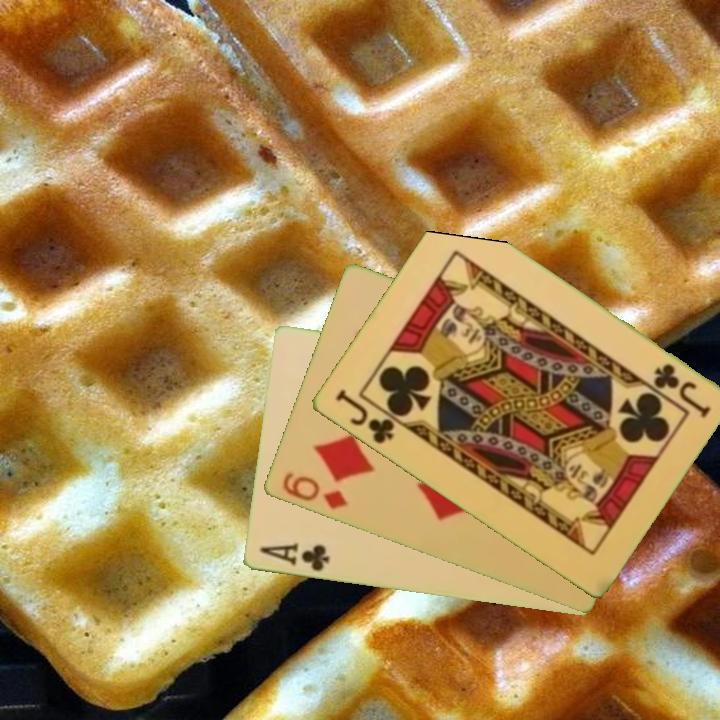6d: (278, 469, 350, 513)
Ac: (255, 540, 332, 575)
Jc: (331, 386, 397, 447), (649, 360, 713, 420)
